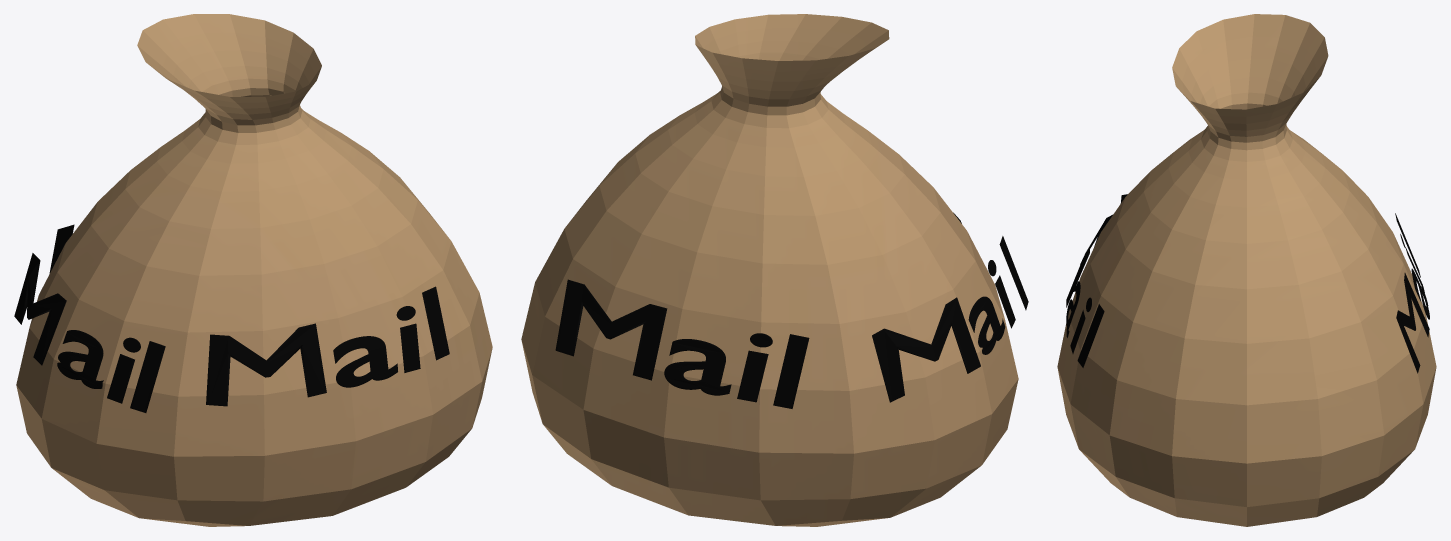
Rendered from mailbag.glb.
3 renders of one model, left to right at view 1: azimuth 30°, elevation 25°; view 2: azimuth 150°, elevation 25°; view 3: azimuth 270°, elevation 25°, orthographic. The views are drawn at different scales.
Parts seen in each view (by area): view 1: Cube.007, Text, Text.001; view 2: Cube.007, Text.002, Text.001; view 3: Cube.007, Text, Text.002.
Boxes of the visible parts, box(x1,y1,x2,y2) form: Cube.007: box(16, 14, 492, 526); Text: box(206, 286, 449, 406); Text.001: box(14, 253, 165, 412); Cube.007: box(521, 14, 1018, 526); Text.002: box(555, 279, 809, 408); Text.001: box(872, 236, 1028, 402); Cube.007: box(1057, 14, 1436, 526); Text: box(1066, 214, 1112, 367); Text.002: box(1395, 213, 1429, 373).
Bounding box in the file's own units: 2.4 × 2.46 × 1.99.
2 materials, 1 textured.
